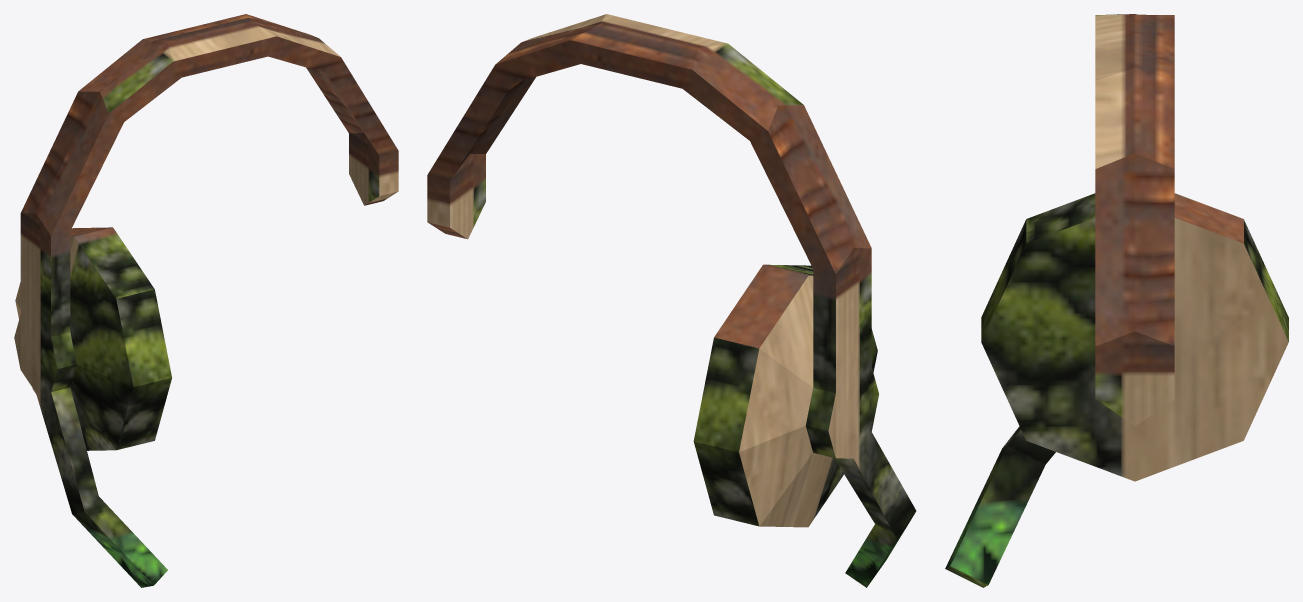
File: OfficeHeadphones.fbx
The picture shows the model from 3 angles, left to right: view 1: azimuth 30°, elevation 25°; view 2: azimuth 150°, elevation 25°; view 3: azimuth 270°, elevation 25°; orthographic projection. The views are drawn at different scales.
Visible parts, largest first — view 1: Headphones; view 2: Headphones; view 3: Headphones.
Part boxes in pixels (x1,y1,x2,y2): Headphones: (14, 14, 398, 587); Headphones: (427, 14, 916, 587); Headphones: (945, 14, 1288, 587).
Bounding box in the file's own units: 0.1812 × 0.2383 × 0.1184.
